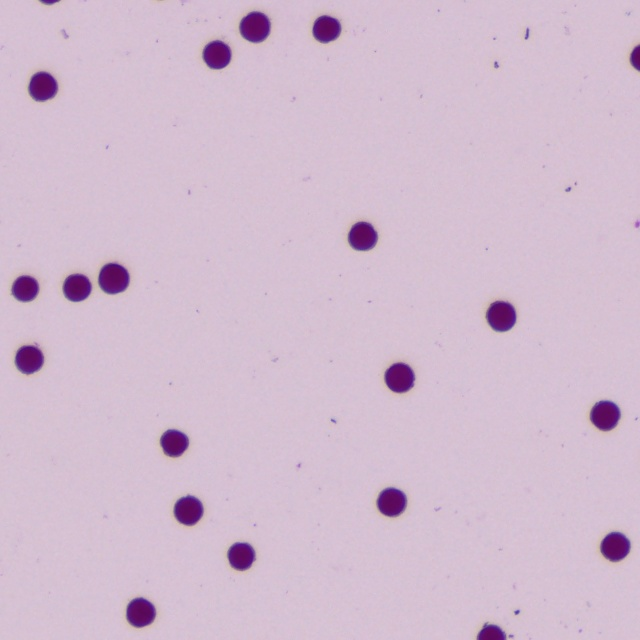viable: (99, 263, 129, 293), (241, 12, 270, 42), (385, 363, 414, 392), (127, 598, 155, 627), (29, 72, 57, 101), (602, 533, 630, 561), (378, 488, 406, 516), (349, 222, 377, 250), (591, 402, 619, 430), (488, 302, 515, 331), (175, 496, 202, 525), (16, 346, 43, 374), (228, 543, 255, 570), (204, 41, 230, 69), (64, 275, 91, 301), (161, 430, 188, 456), (313, 16, 340, 42), (12, 276, 38, 301), (478, 626, 505, 639)
